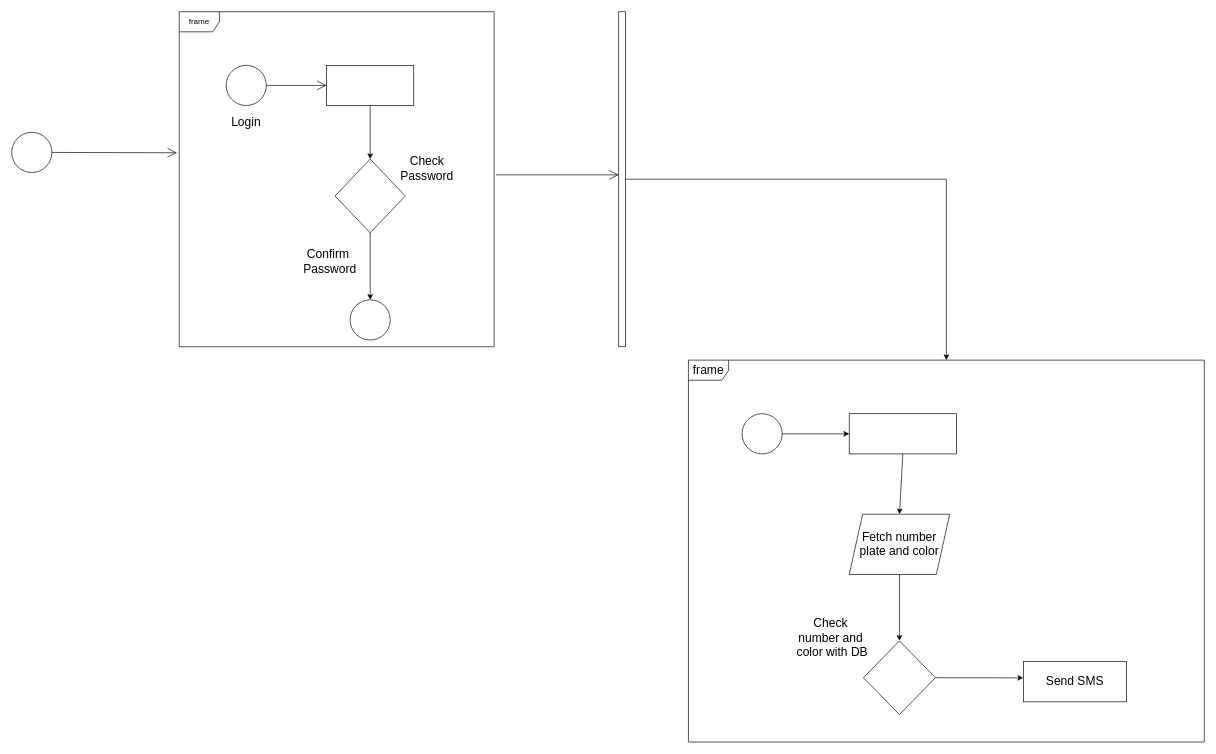
Image size: 1216x754. Some labels were removed from this diagram. The shapes that lost their labels are listed below. From the top down, each one's box as (x1, y1, x2, y2) in pixels, then its label:
(326, 65, 414, 106): Username, Password
(849, 413, 956, 454): Scan Number Plate
